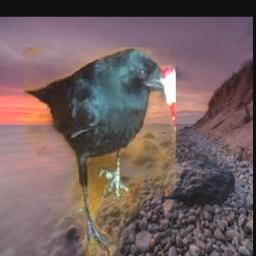Crow: (23, 47, 176, 256)
